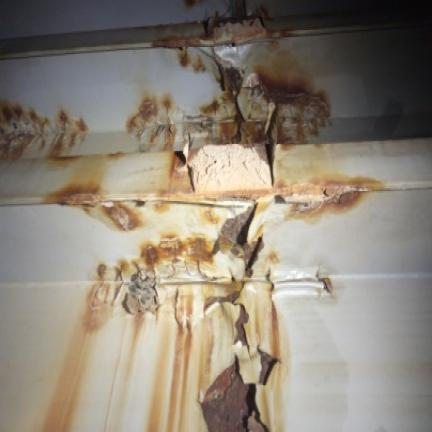karat: (237, 58, 330, 143), (202, 360, 255, 431), (220, 207, 254, 246)
